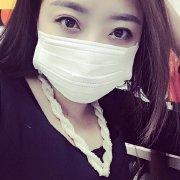face_mask: (37, 0, 141, 103)
